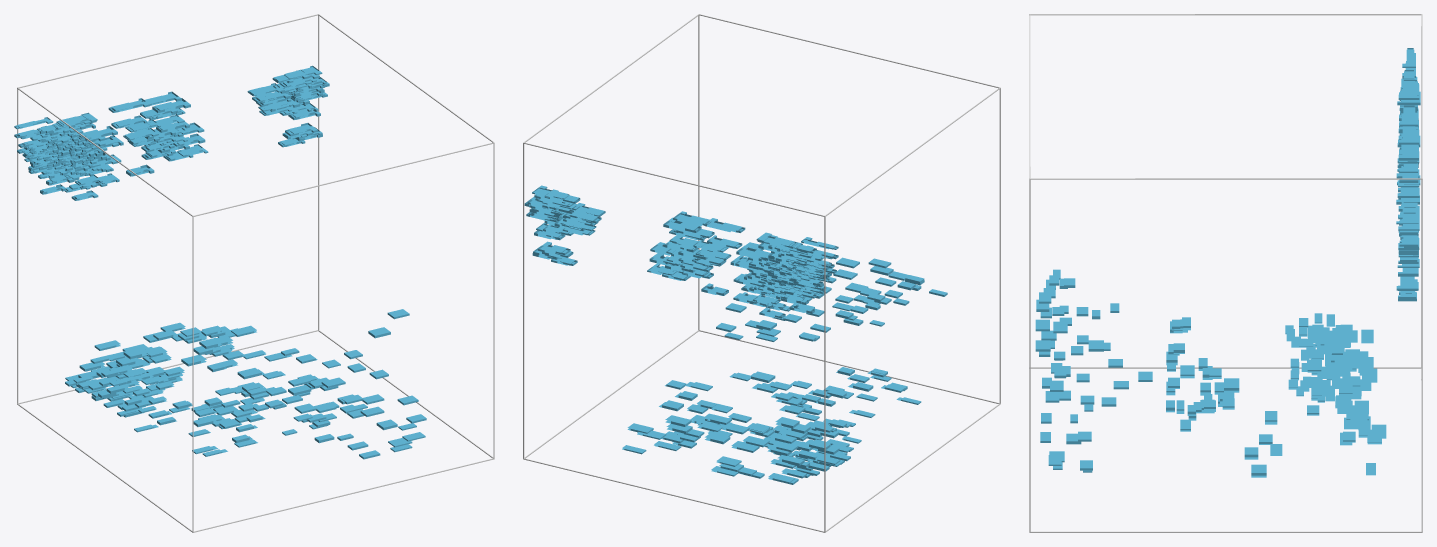
Rendered from cornerpoints.glb.
3 renders of one model, left to right at view 1: azimuth 30°, elevation 25°; view 2: azimuth 150°, elevation 25°; view 3: azimuth 270°, elevation 25°, orthographic. The views are drawn at different scales.
Visible parts, largest first — view 1: cornerpoints, boundarz; view 2: cornerpoints, boundarz; view 3: cornerpoints, boundarz.
Boxes of the visible parts, x1=… form: cornerpoints: x1=14, y1=65, x2=426, y2=459; boundarz: x1=17, y1=14, x2=494, y2=532; cornerpoints: x1=524, y1=185, x2=947, y2=484; boundarz: x1=523, y1=14, x2=1000, y2=532; cornerpoints: x1=1035, y1=48, x2=1420, y2=477; boundarz: x1=1029, y1=14, x2=1422, y2=532.
Size of the model in its own units: 27.02 by 26.48 by 26.67.
